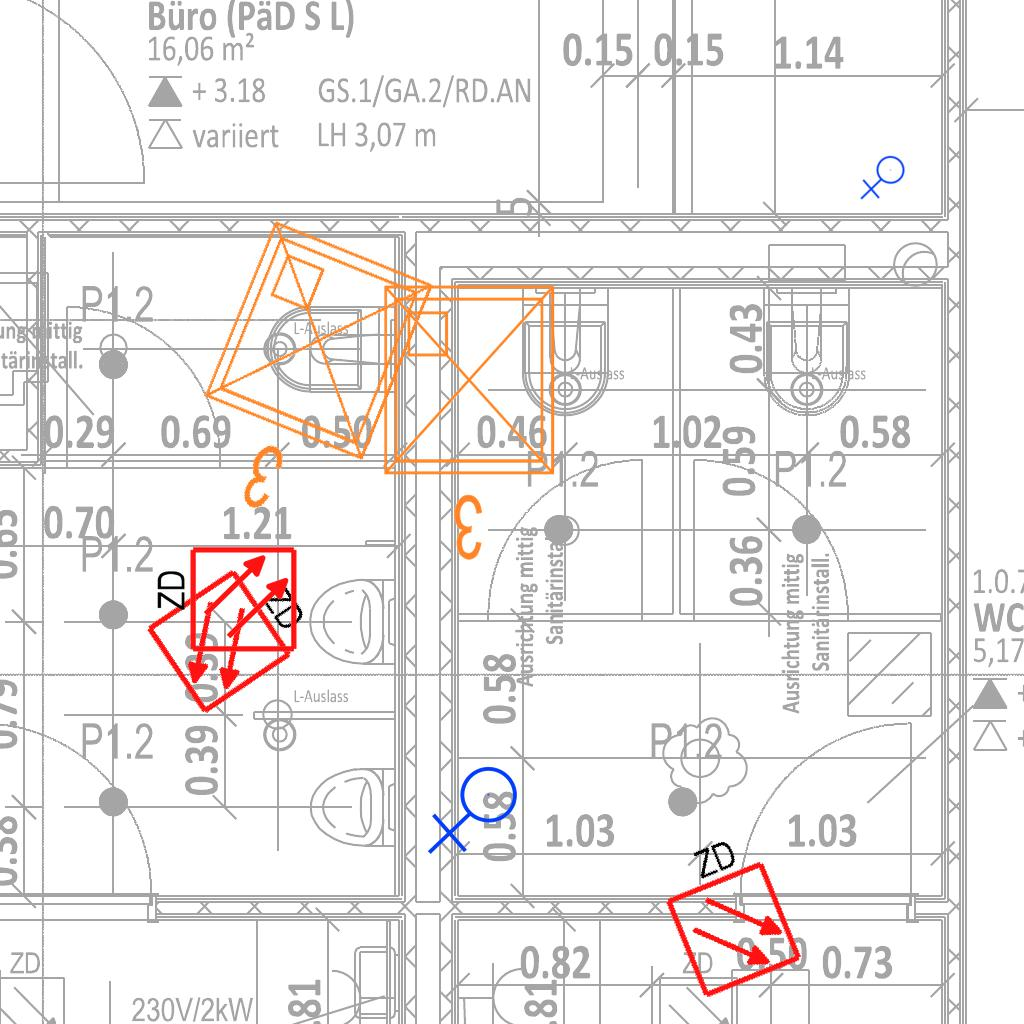Einbaudownlights_LED_Konferenzraeume: (154, 201, 460, 559), (369, 271, 577, 571)
Elektroanschluss_allgemein_230V_Geraeteanschlussdose_230V: (427, 765, 526, 859), (860, 155, 909, 202)
ZD_Melder_in_Zwischendecke_mit_Revisionsoeffnung_mind_40_x_40_cm: (140, 540, 328, 719), (644, 822, 806, 1003), (150, 544, 299, 658)
